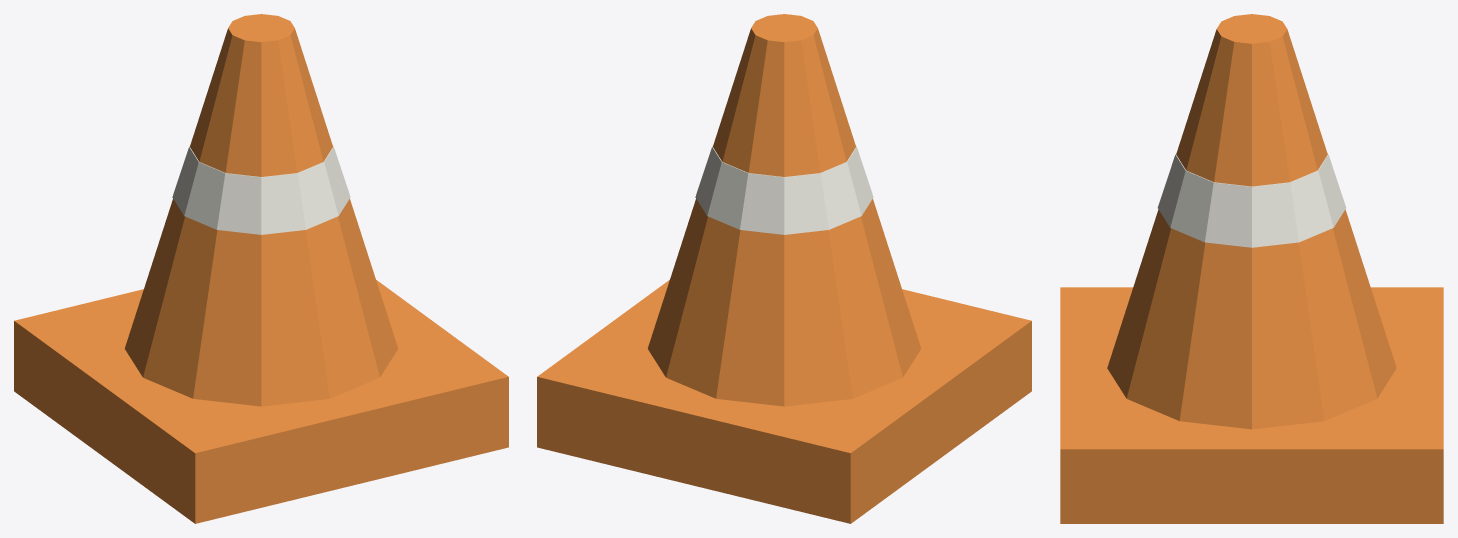
The picture shows the model from 3 angles, left to right: view 1: azimuth 30°, elevation 25°; view 2: azimuth 150°, elevation 25°; view 3: azimuth 270°, elevation 25°; orthographic projection. The views are drawn at different scales.
Visible parts, largest first — view 1: Cubo; view 2: Cubo; view 3: Cubo.
Boxes of the visible parts, x1,y1,x2,y2 form: Cubo: [14, 14, 508, 523]; Cubo: [537, 14, 1031, 523]; Cubo: [1060, 14, 1443, 523].
Bounding box in the file's own units: 0.65 × 0.775 × 0.65.
